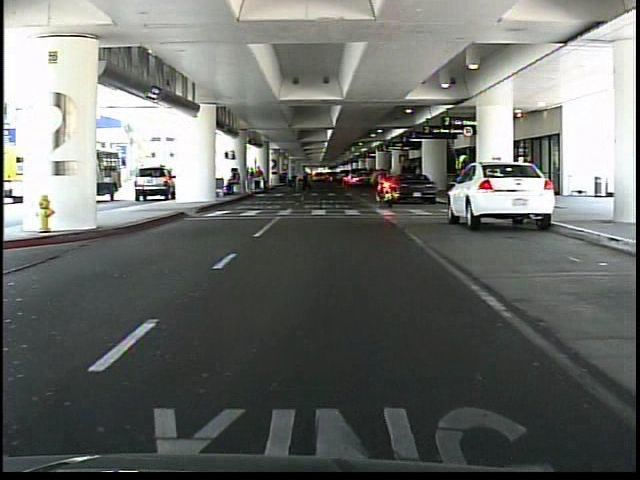person: (452, 151, 472, 222)
